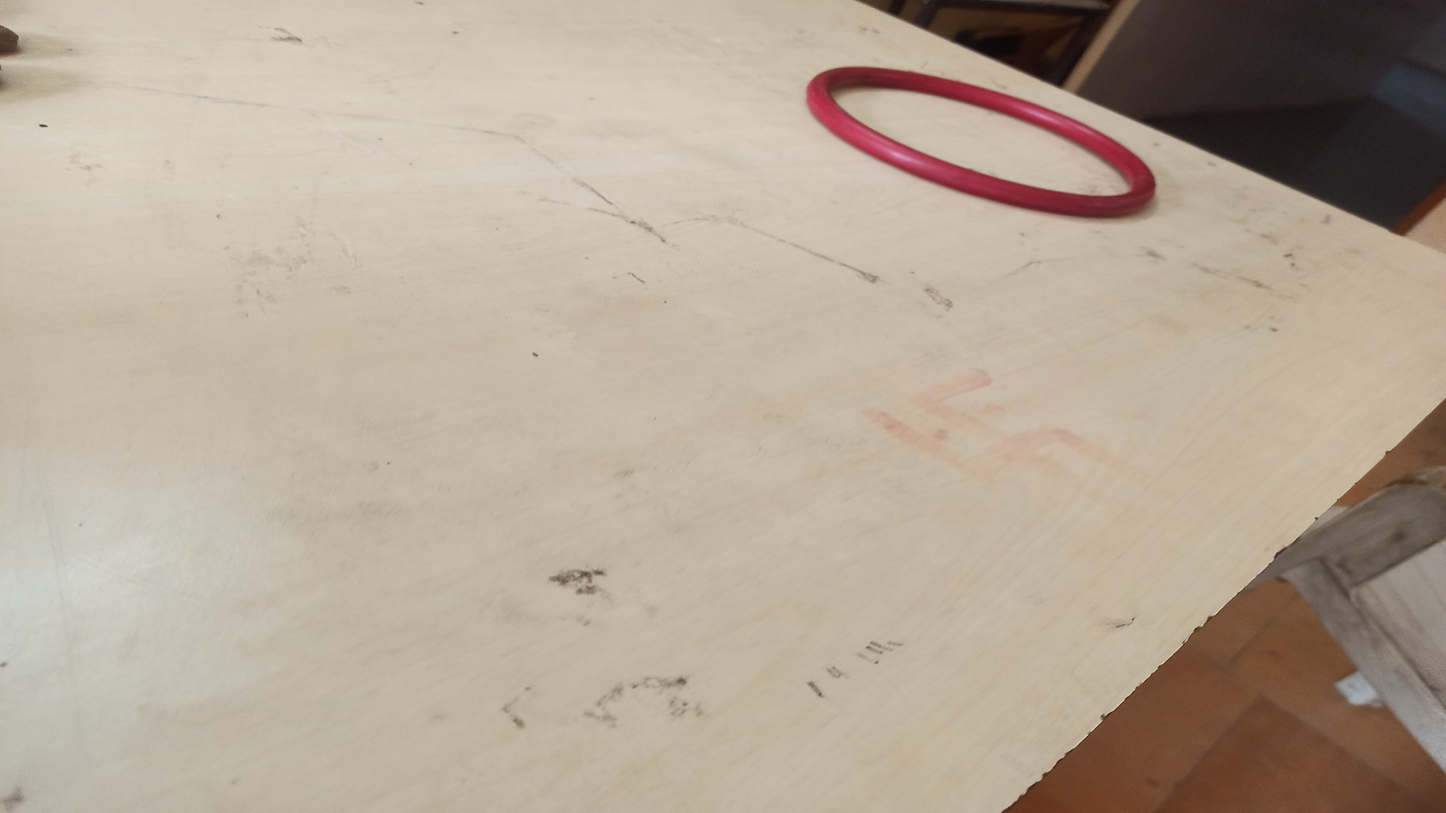Red ring: (805, 64, 1163, 220)
